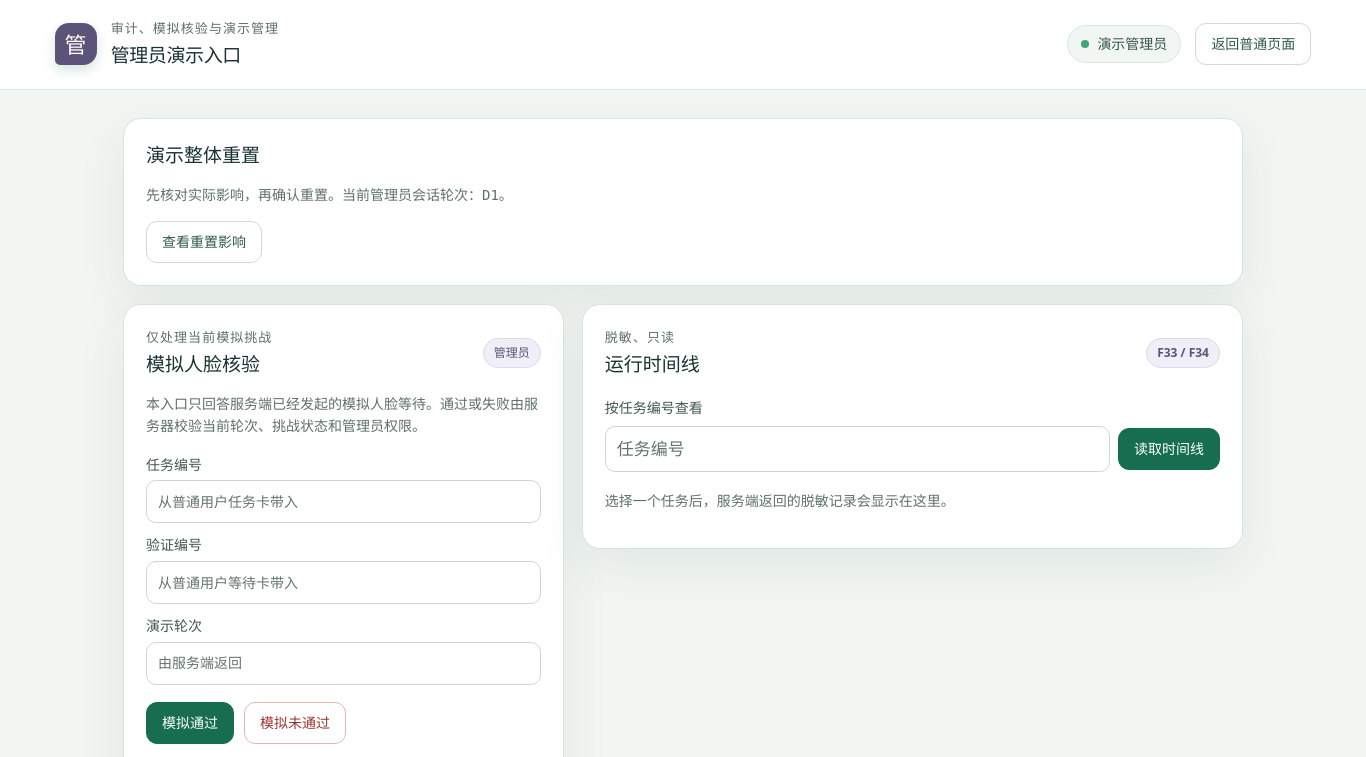
Scenario: administrator demo reset › shows the server's effects and sends no reset before a second confirmation
Step 1. Click the button "查看重置影响" → x=204, y=242, box [146,221,262,263]
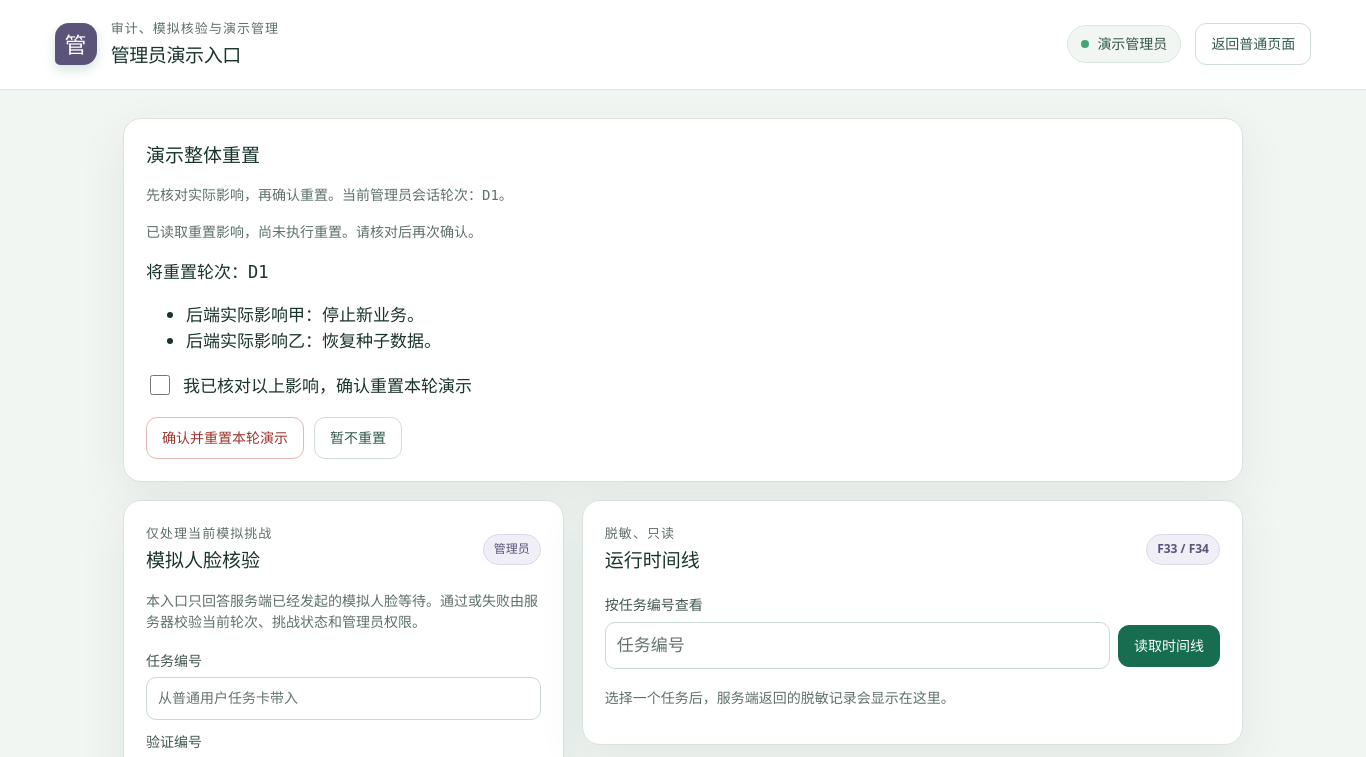
Check: the list item "后端实际影响甲：停止新业务。" is shown, box [186,303,424,326]
Check: the list item "后端实际影响乙：恢复种子数据。" is shown, box [186,329,441,352]
Check: the checkbox labelled "我已核对以上影响，确认重置本轮演示" is shown, box [150,375,170,395]
